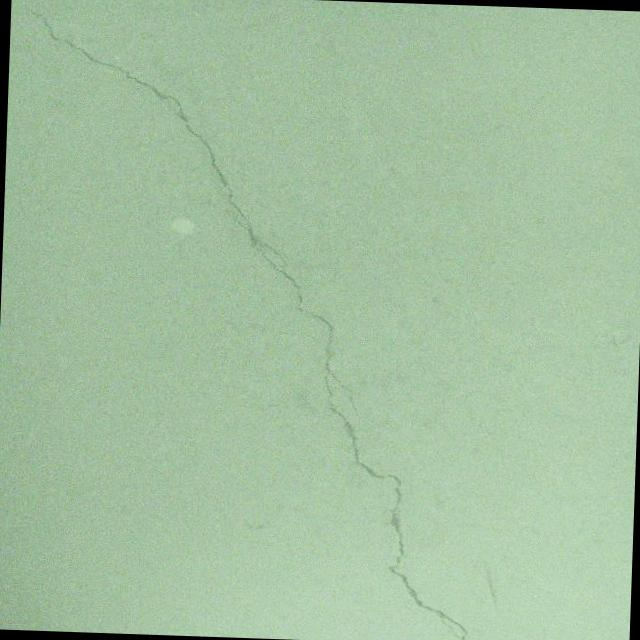crack: (0, 8, 491, 640), (8, 40, 62, 81)
